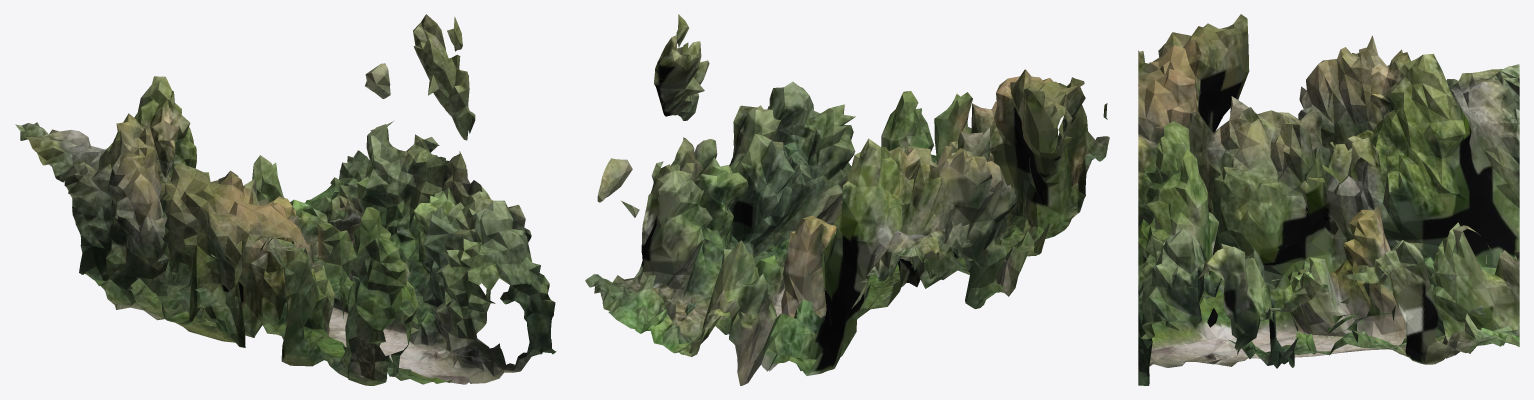
3 views of the same model, side by side, from view 1: azimuth 30°, elevation 25°; view 2: azimuth 150°, elevation 25°; view 3: azimuth 270°, elevation 25° (orthographic). The views are drawn at different scales.
Bounding box in the file's own units: 47.19 × 36.7 × 47.19.
7 materials, 7 textured.
